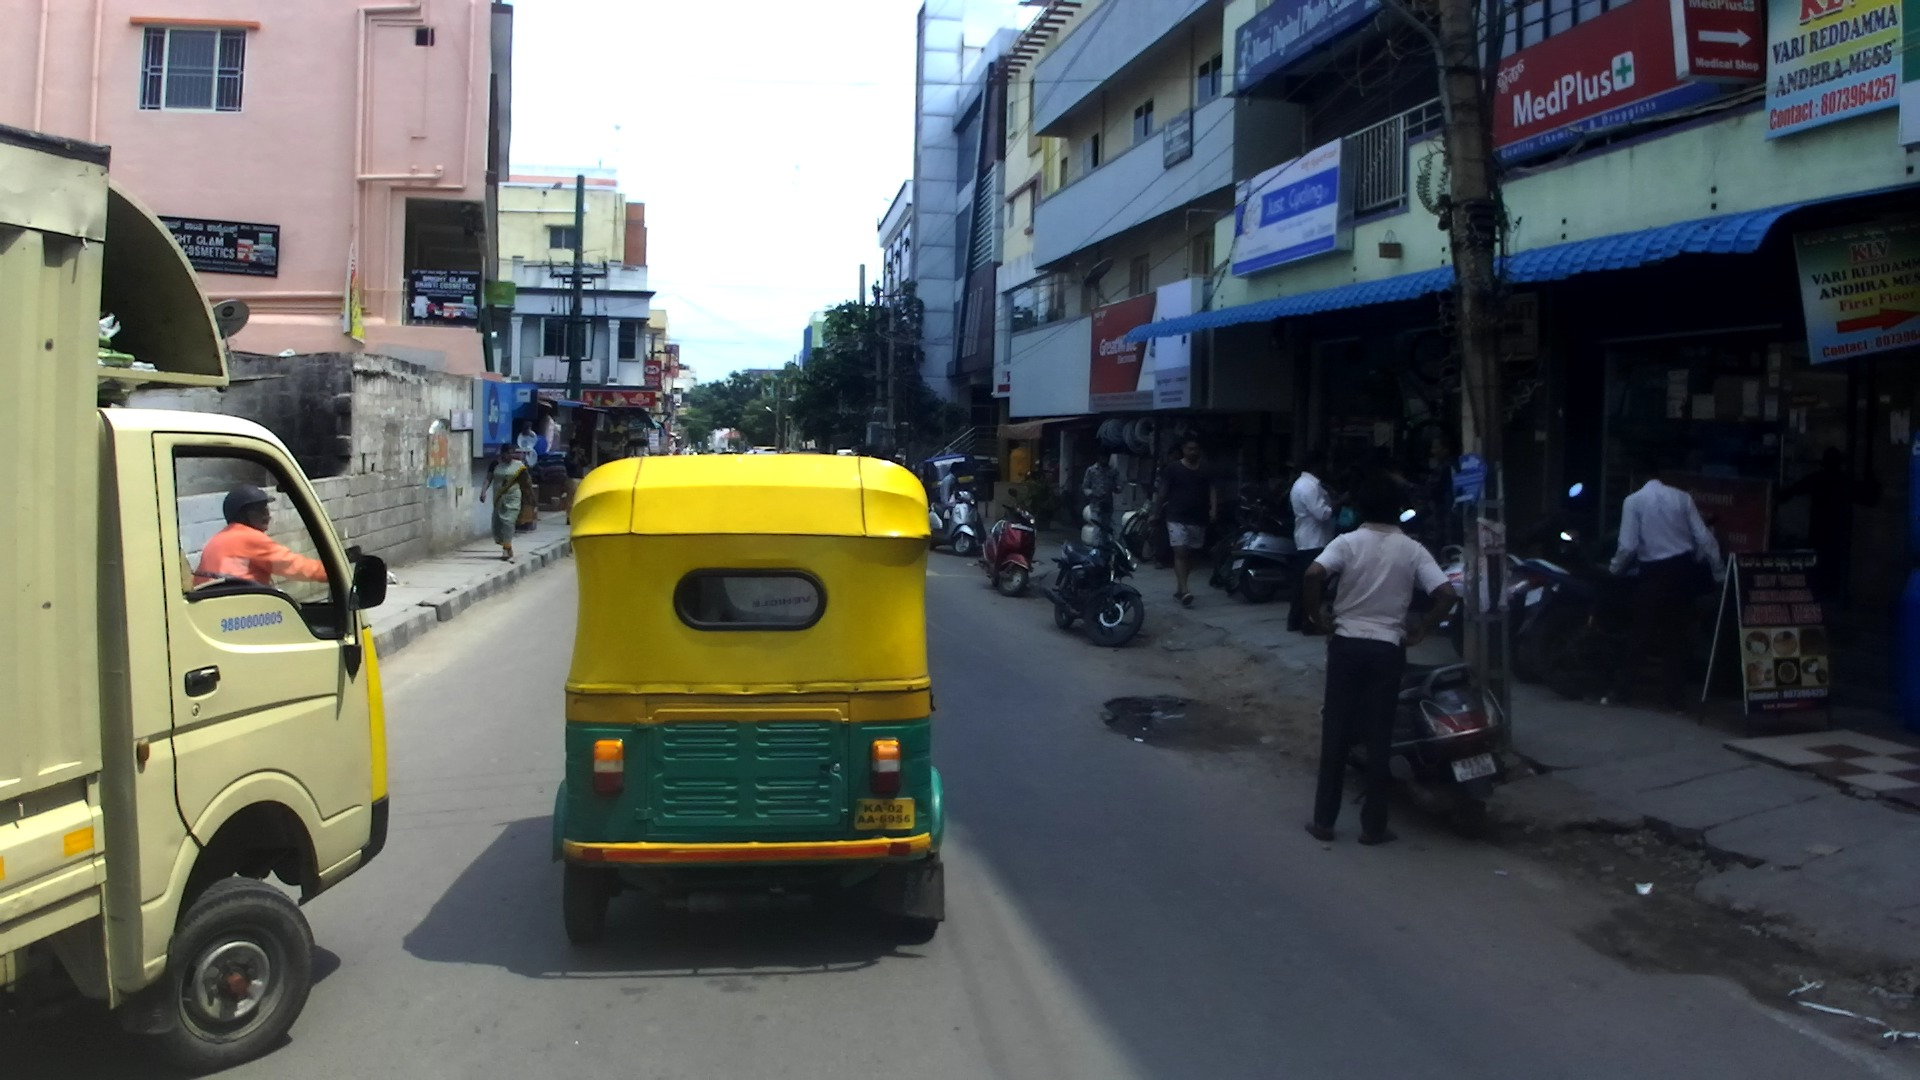autorickshaw: (549, 455, 946, 946)
bicycle: (1126, 478, 1176, 568)
car: (749, 446, 783, 454)
motorcycle: (1336, 624, 1508, 835), (1524, 531, 1639, 698), (1503, 482, 1587, 669), (1230, 488, 1356, 606), (1038, 518, 1146, 647), (1440, 540, 1518, 637), (976, 487, 1035, 597), (1381, 499, 1442, 601), (1007, 450, 1067, 533), (933, 490, 987, 556), (1213, 487, 1241, 601)
person: (1303, 479, 1456, 846), (1608, 458, 1726, 703), (1777, 444, 1881, 605), (1154, 437, 1209, 604), (1289, 454, 1331, 638), (479, 442, 538, 562), (1081, 449, 1124, 553), (938, 460, 987, 544), (563, 438, 590, 527)
truck: (1, 124, 389, 1080), (906, 454, 977, 517)
vehicle fallback: (974, 455, 994, 503), (833, 447, 856, 456)
